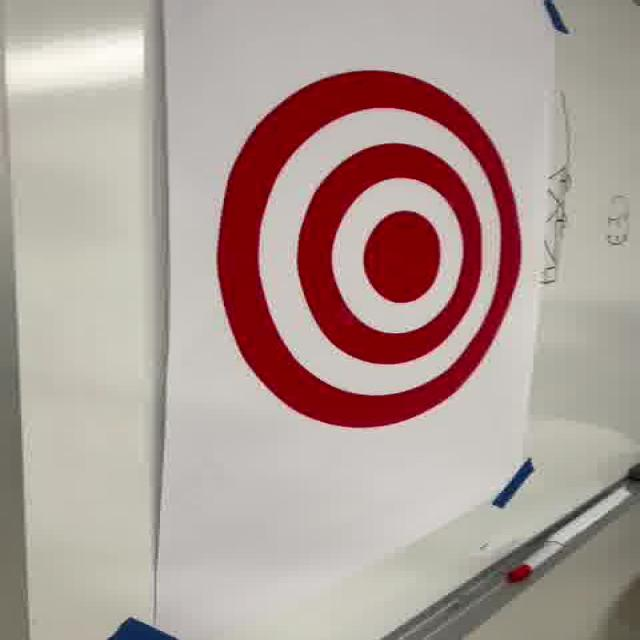target_red: (213, 71, 522, 428)
